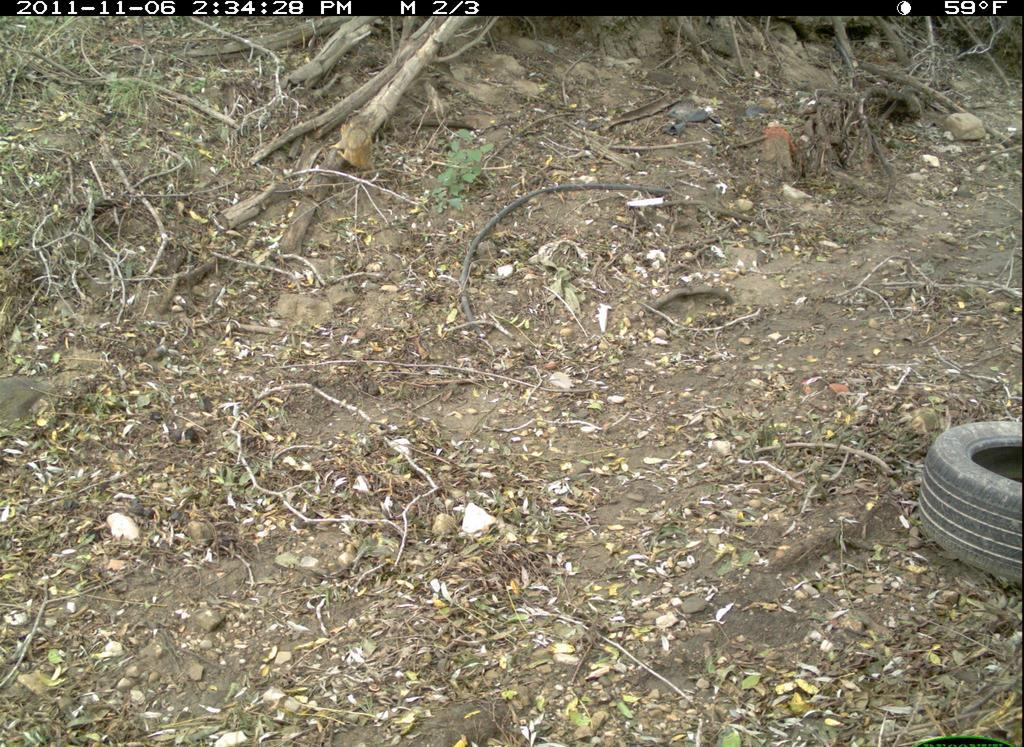squirrel: (328, 108, 396, 178)
